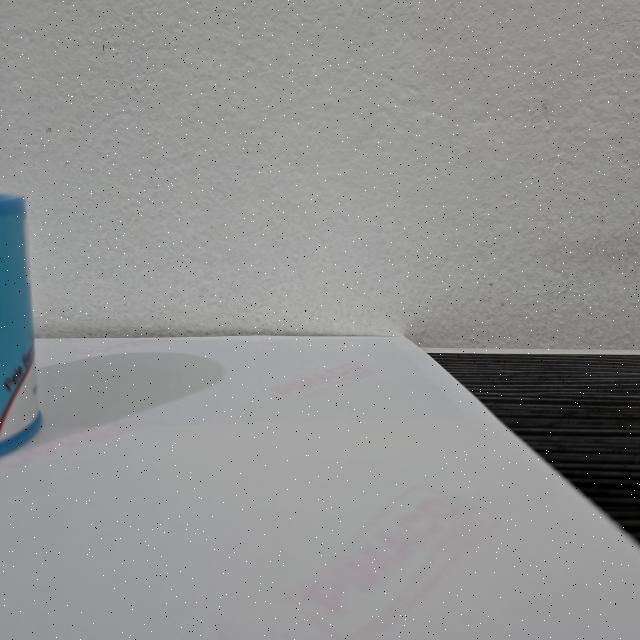procitex: (0, 187, 47, 482)
